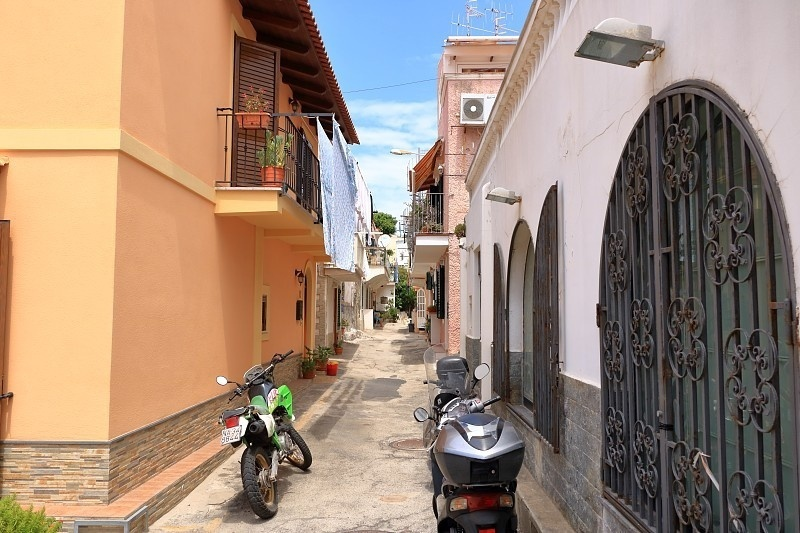non-vehicle: (406, 355, 534, 533), (216, 354, 312, 523)
